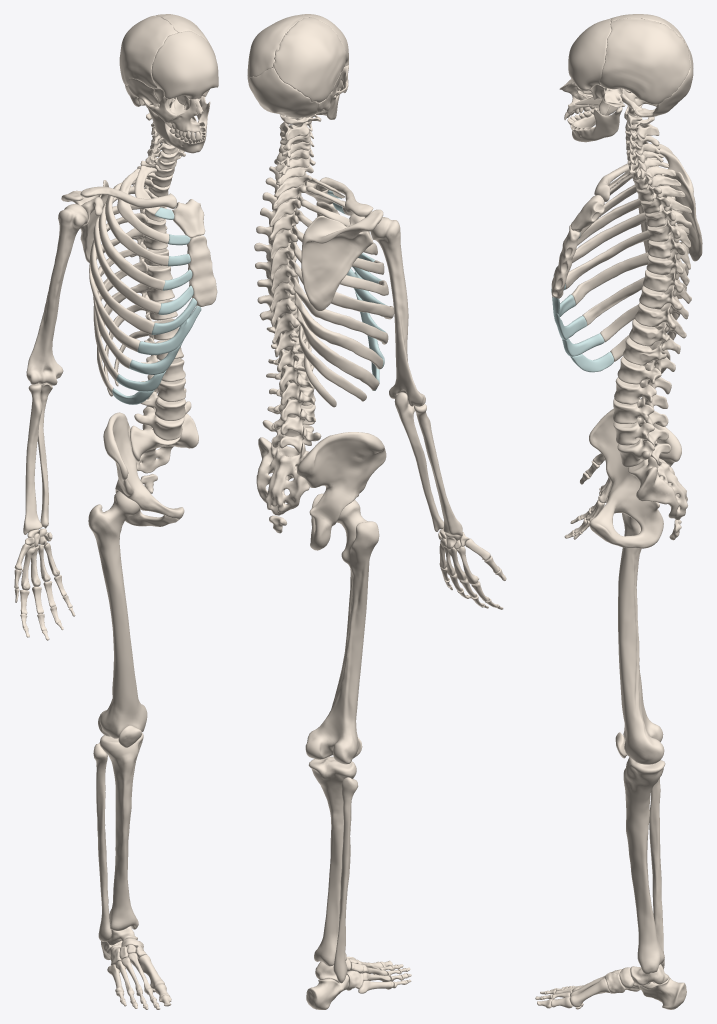
The model's file is skeleton.glb.
3 renders of one model, left to right at view 1: azimuth 30°, elevation 25°; view 2: azimuth 150°, elevation 25°; view 3: azimuth 270°, elevation 25°, orthographic. The views are drawn at different scales.
Parts seen in each view (by area): view 1: Femur.r, Tibia.r, Frontal bone, Humerus.r, Hip bone.r, Parietal bone right, Sacrum, Fibula.r, Radius.r, Body of sternum, Rib (6th).r, Rib (4th).r (+24 smaller); view 2: Femur.r, Hip bone.r, Scapula.r., Parietal bone right, Tibia.r, Humerus.r, Sacrum, Occipital bone, Fibula.r, Parietal bone left, Ulna.r, Radius.r (+15 smaller); view 3: Parietal bone left, Femur.r, Hip bone.r, Tibia.r, Sacrum, Frontal bone, Fibula.r, Scapula.r., Mandible bone, Occipital bone, Rib (7th).r, Lumbar vertebrae (L1) (+32 smaller).
Boxes of the visible parts, bbox=[...] form: Femur.r: bbox=[88, 491, 147, 738]; Tibia.r: bbox=[99, 733, 143, 930]; Frontal bone: bbox=[151, 31, 218, 99]; Humerus.r: bbox=[26, 204, 87, 385]; Hip bone.r: bbox=[103, 412, 184, 526]; Parietal bone right: bbox=[119, 15, 177, 88]; Sacrum: bbox=[130, 413, 198, 473]; Fibula.r: bbox=[93, 743, 111, 941]; Radius.r: bbox=[23, 383, 42, 534]; Body of sternum: bbox=[187, 235, 217, 306]; Rib (6th).r: bbox=[90, 213, 154, 334]; Rib (4th).r: bbox=[98, 186, 165, 290]; Femur.r: bbox=[305, 500, 379, 764]; Hip bone.r: bbox=[297, 432, 386, 550]; Scapula.r.: bbox=[301, 209, 383, 311]; Parietal bone right: bbox=[273, 17, 346, 102]; Tibia.r: bbox=[308, 756, 356, 966]; Humerus.r: bbox=[370, 217, 425, 406]; Sacrum: bbox=[256, 437, 309, 515]; Occipital bone: bbox=[248, 67, 318, 117]; Fibula.r: bbox=[333, 777, 358, 983]; Parietal bone left: bbox=[247, 15, 309, 81]; Ulna.r: bbox=[394, 392, 443, 531]; Radius.r: bbox=[414, 403, 462, 535]; Parietal bone left: bbox=[599, 18, 690, 104]; Femur.r: bbox=[618, 513, 664, 764]; Hip bone.r: bbox=[589, 407, 681, 548]; Tibia.r: bbox=[623, 757, 665, 974]; Sacrum: bbox=[628, 441, 687, 520]; Frontal bone: bbox=[568, 18, 611, 90]; Fibula.r: bbox=[649, 778, 664, 969]; Scapula.r.: bbox=[650, 143, 702, 261]; Mandible bone: bbox=[570, 105, 622, 142]; Occipital bone: bbox=[620, 48, 693, 117]; Rib (7th).r: bbox=[571, 242, 688, 305]; Lumbar vertebrae (L1): bbox=[617, 356, 671, 394].
Bounding box in the file's own units: 0.4097 × 1.7 × 0.2542.
